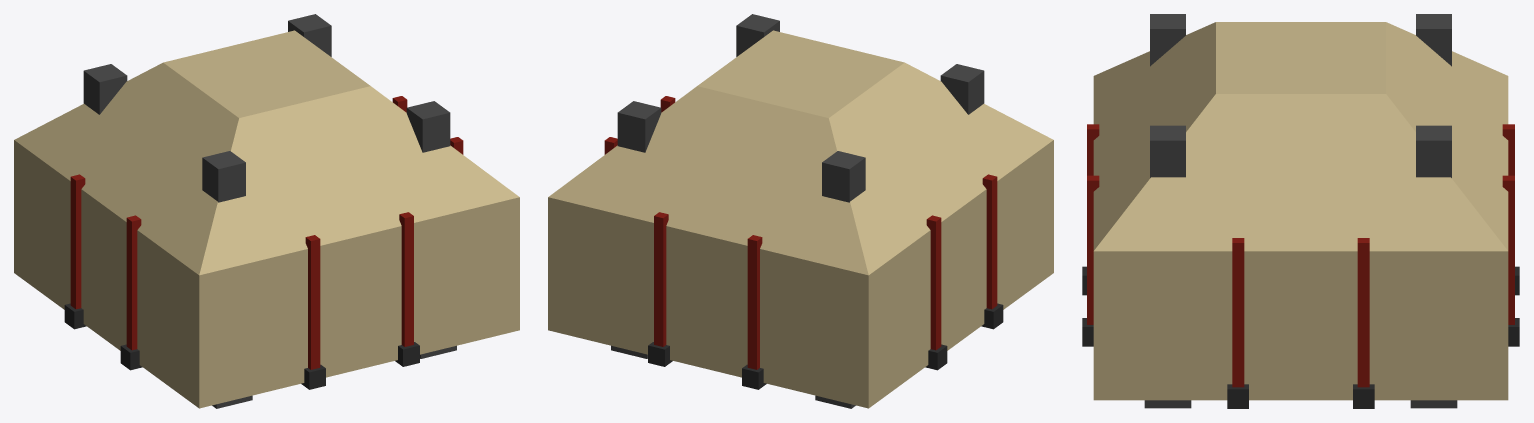
The model's file is dojo.fbx.
The picture shows the model from 3 angles, left to right: view 1: azimuth 30°, elevation 25°; view 2: azimuth 150°, elevation 25°; view 3: azimuth 270°, elevation 25°; orthographic projection. The views are drawn at different scales.
Parts seen in each view (by area): view 1: Plane, Cube.001, Cube; view 2: Plane, Cube.001, Cube; view 3: Plane, Cube.001, Cube.
Boxes of the visible parts, x1=… form: Plane: x1=14, y1=30, x2=519, y2=408; Cube.001: x1=64, y1=96, x2=463, y2=389; Cube: x1=83, y1=14, x2=456, y2=408; Plane: x1=548, y1=30, x2=1053, y2=408; Cube.001: x1=604, y1=96, x2=1003, y2=389; Cube: x1=611, y1=14, x2=984, y2=408; Plane: x1=1093, y1=22, x2=1508, y2=400; Cube.001: x1=1082, y1=124, x2=1519, y2=408; Cube: x1=1144, y1=14, x2=1457, y2=408.
Bounding box in the file's own units: 723 × 518 × 721.
